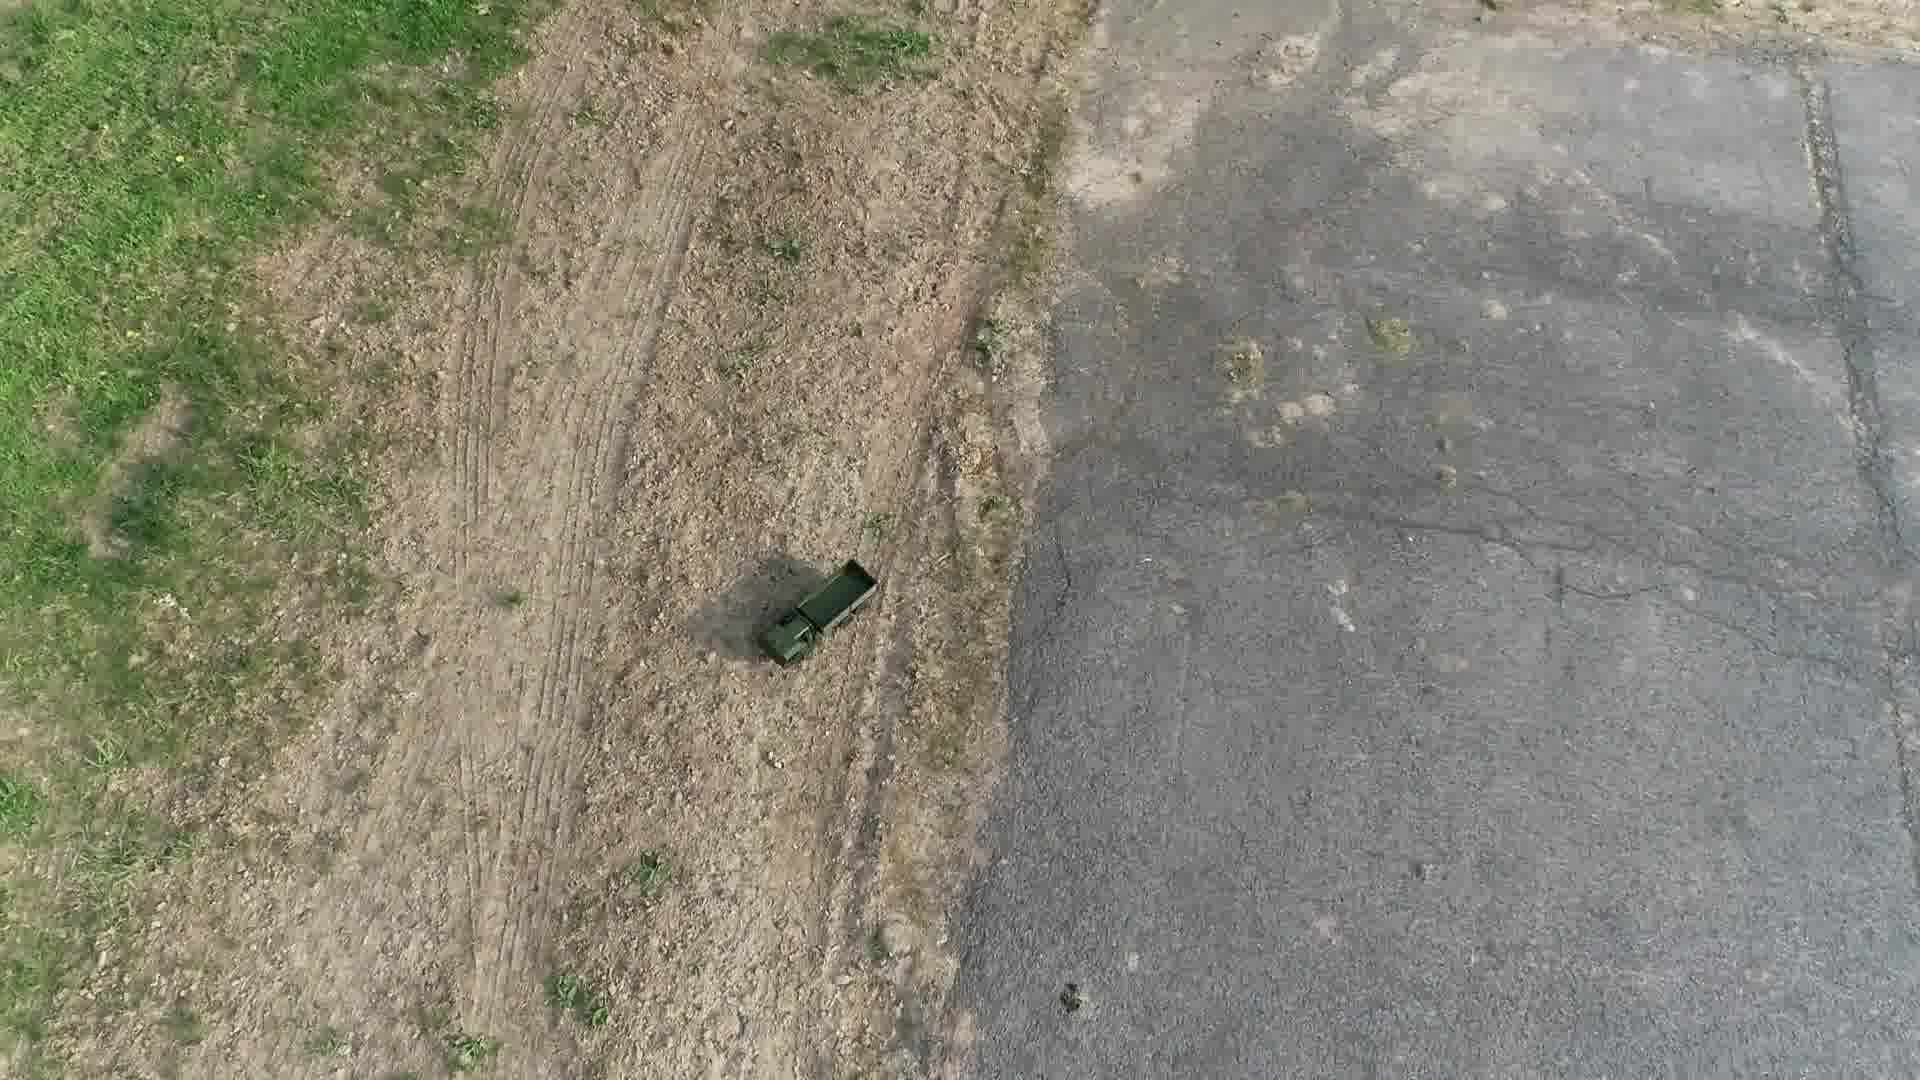transporter9: (753, 551, 887, 673)
